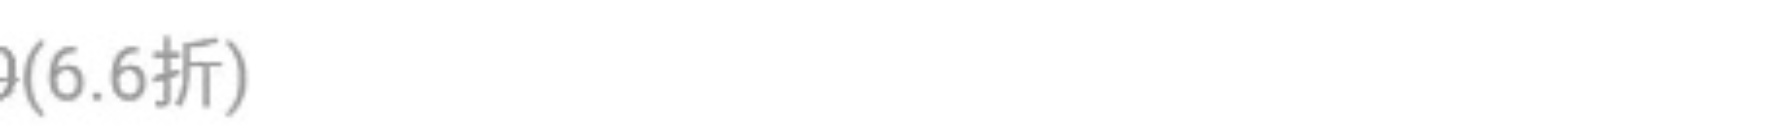TextView: (1, 1, 1791, 139)
